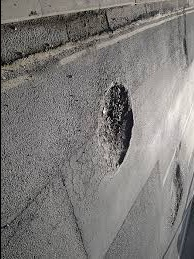pothole: (3, 10, 113, 68), (91, 77, 134, 185), (166, 160, 185, 229), (181, 38, 188, 60)
